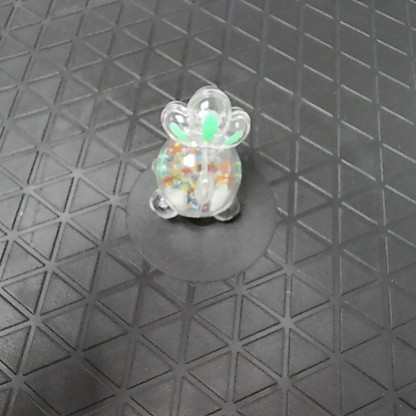whitefish: (145, 82, 253, 222)
